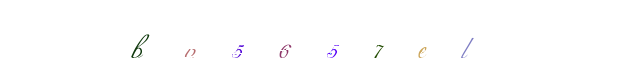5: (219, 0, 299, 80), (247, 0, 327, 80)
6: (222, 0, 302, 80)
7: (270, 0, 350, 80)
B: (152, 0, 232, 80)
E: (271, 0, 351, 80)
L: (319, 0, 399, 80)
V: (155, 0, 235, 80)
